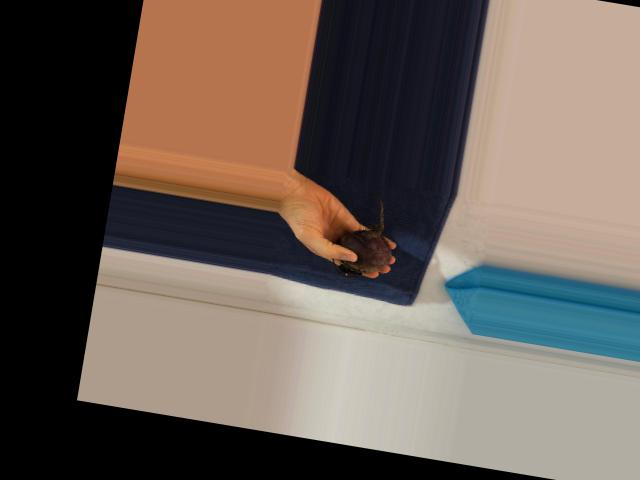beet: (329, 192, 400, 283)
